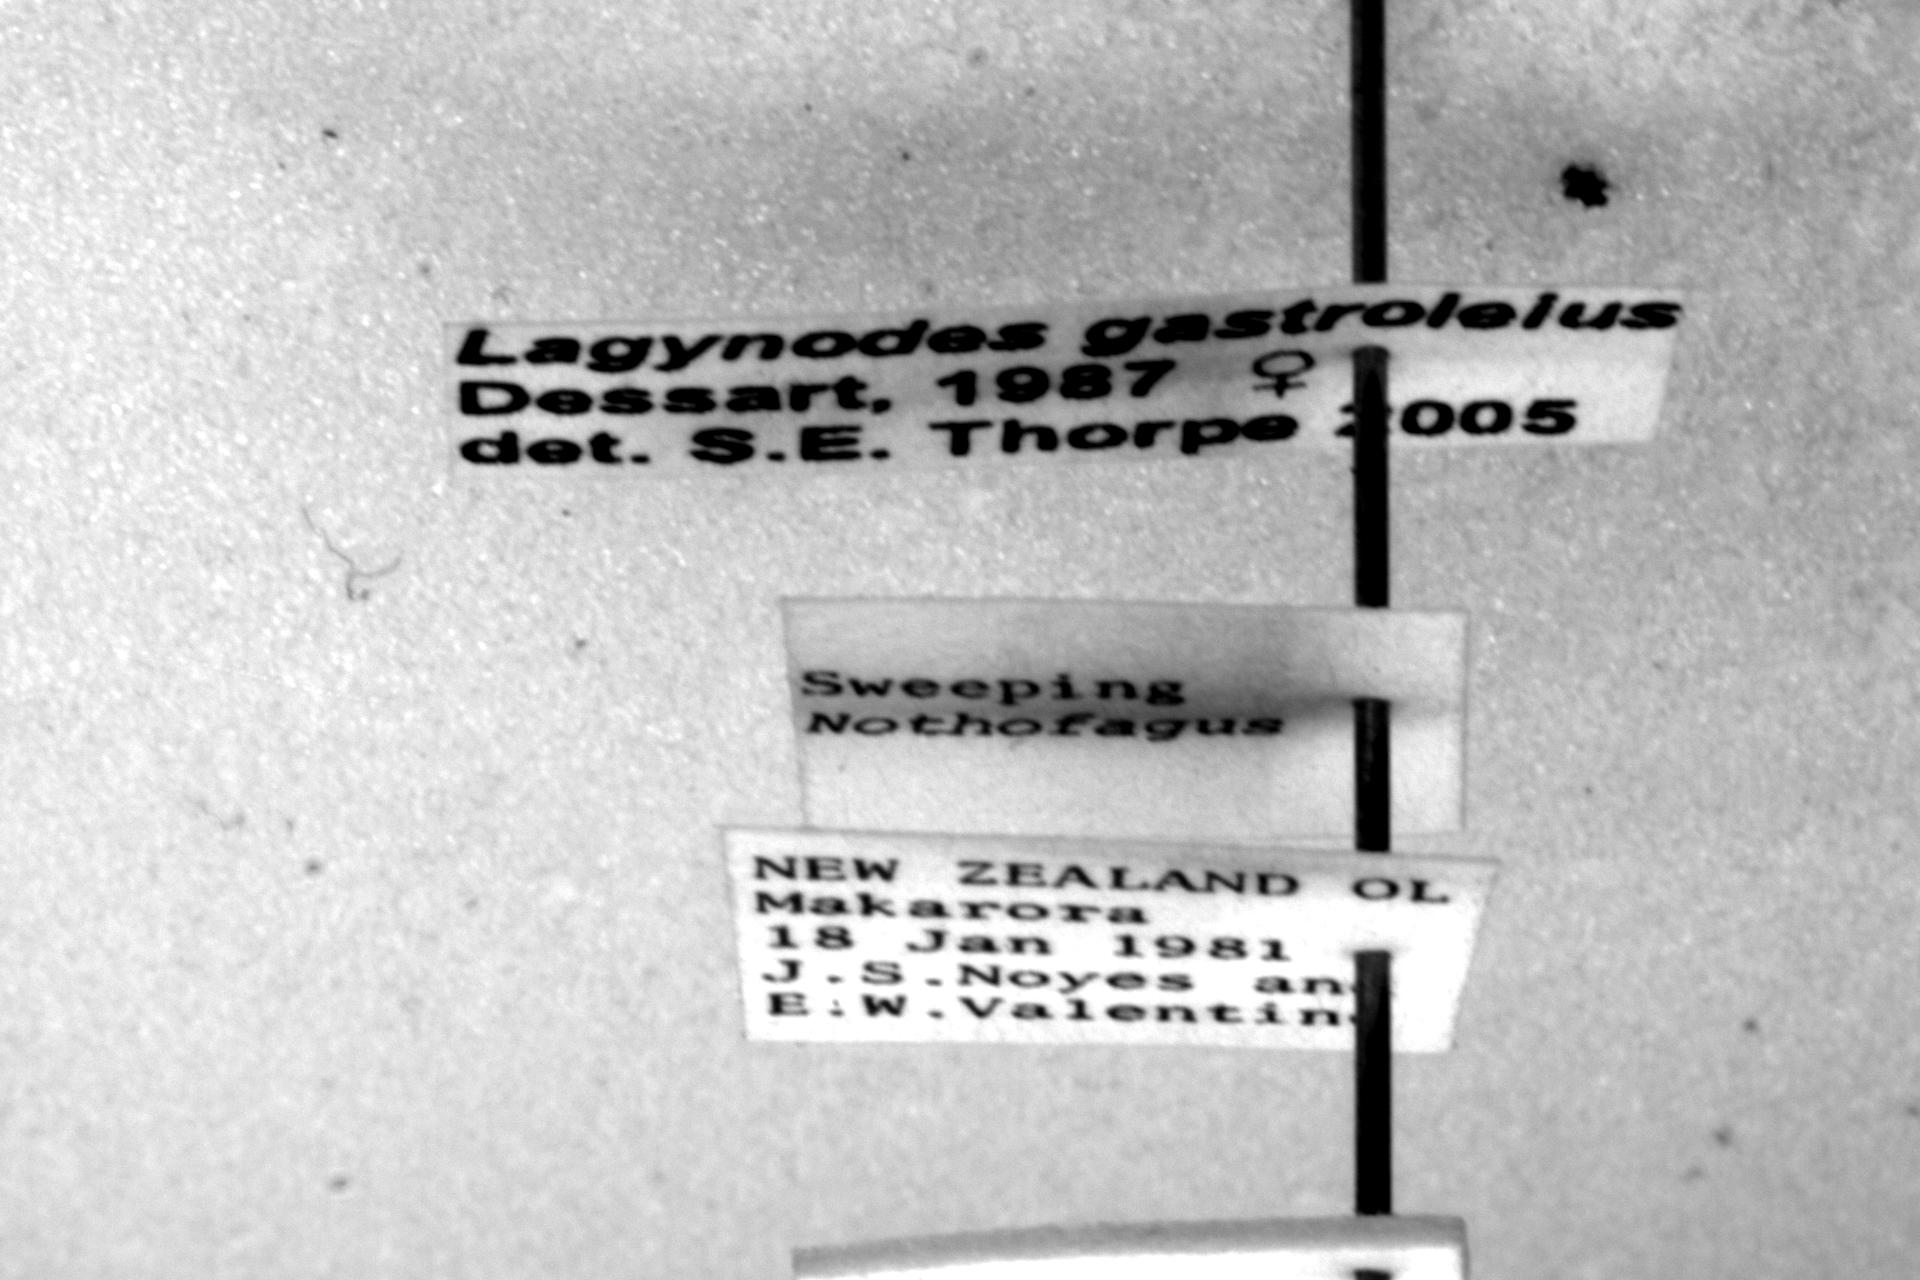typed_label: (446, 285, 1680, 476), (724, 829, 1496, 1054), (784, 600, 1466, 840)
